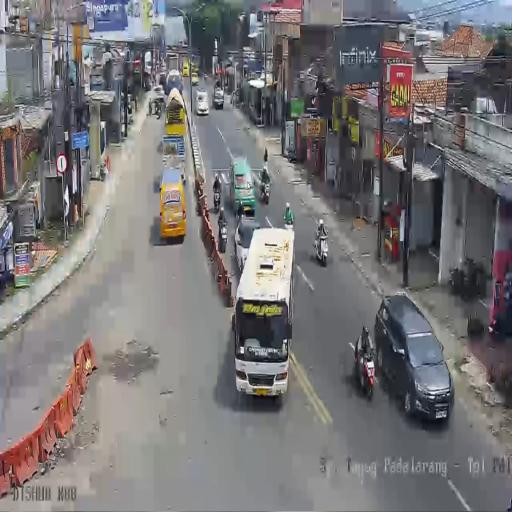car: (373, 292, 454, 420), (159, 164, 186, 240), (230, 156, 256, 216), (234, 214, 260, 274), (195, 89, 209, 116), (213, 86, 224, 109), (157, 69, 167, 91), (182, 61, 189, 76)
motorcycle: (354, 338, 376, 398), (314, 226, 329, 268), (259, 175, 271, 205), (284, 142, 297, 164), (212, 184, 221, 212)
